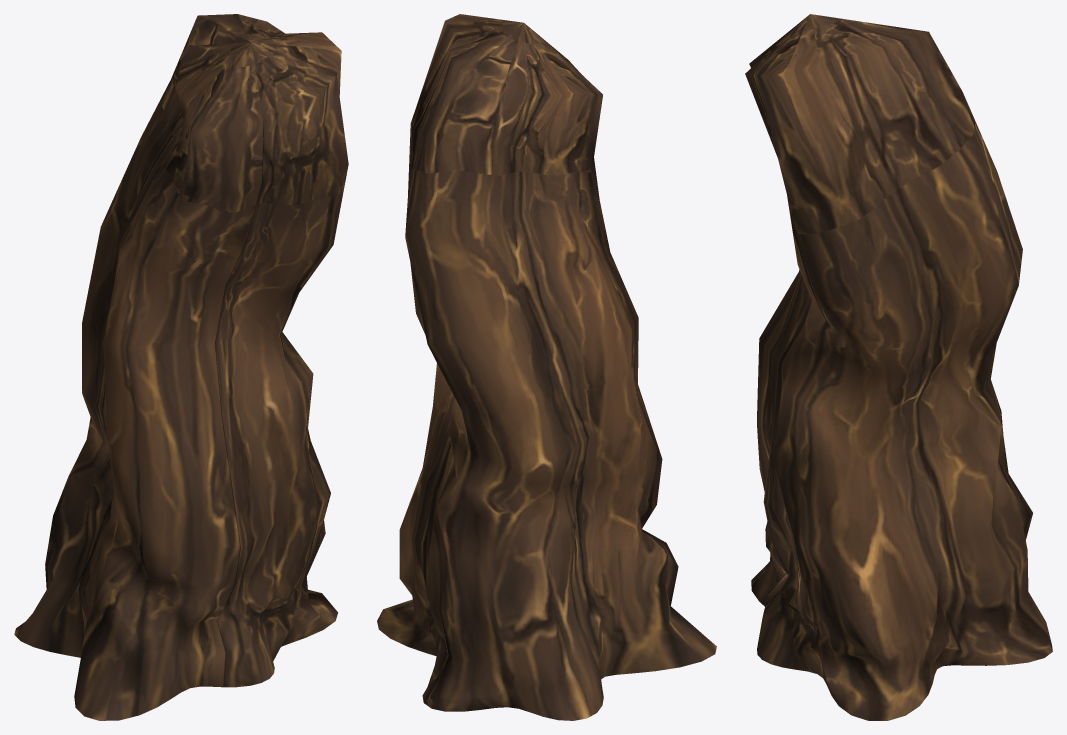
File: FantasyTreeTrunk1.fbx
3 views of the same model, side by side, from view 1: azimuth 30°, elevation 25°; view 2: azimuth 150°, elevation 25°; view 3: azimuth 270°, elevation 25° (orthographic). The views are drawn at different scales.
Parts seen in each view (by area): view 1: tree2_0; view 2: tree2_0; view 3: tree2_0.
Boxes of the visible parts, bbox=[...] form: tree2_0: bbox=[14, 14, 348, 720]; tree2_0: bbox=[377, 14, 716, 720]; tree2_0: bbox=[745, 14, 1052, 720].
Size of the model in its own units: 58.32 by 116 by 49.91.
Materials: 1 (1 with a texture image).
